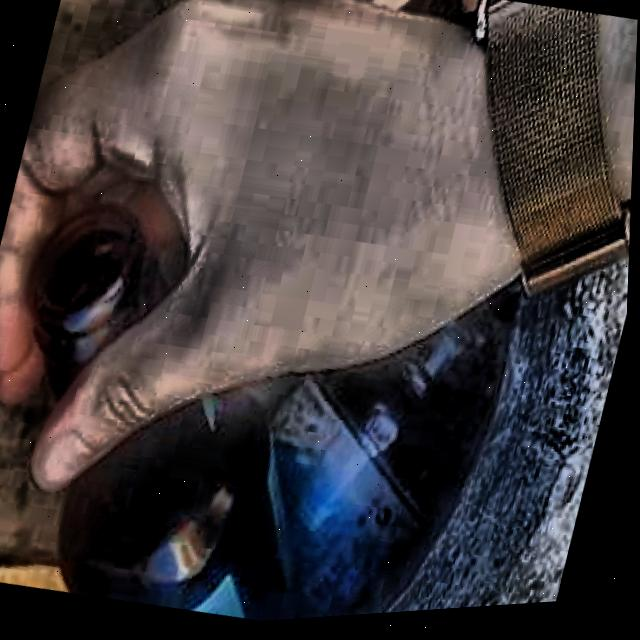glass: (62, 392, 292, 625), (33, 207, 172, 397)
